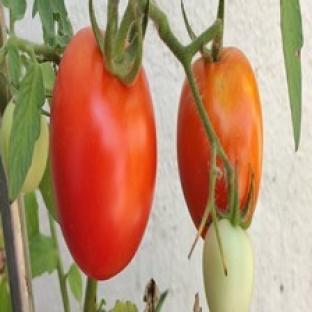Tomato: (51, 28, 157, 279), (193, 48, 263, 217), (204, 219, 253, 311), (21, 116, 48, 193)
